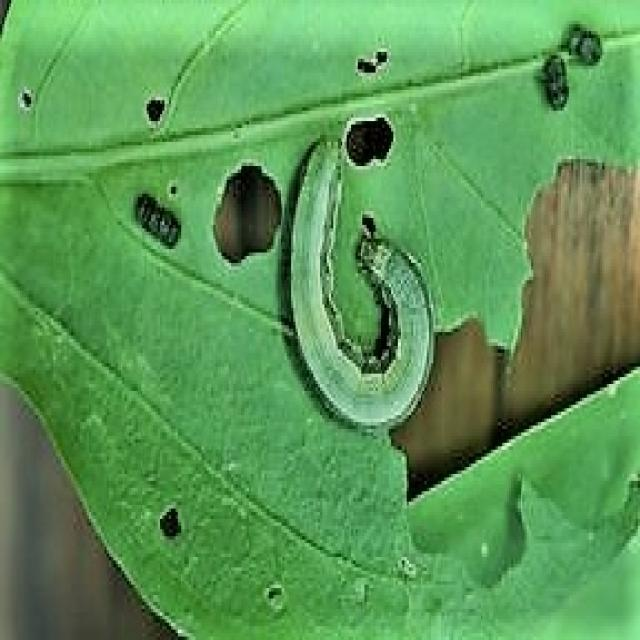armyworm: (288, 127, 437, 441)
